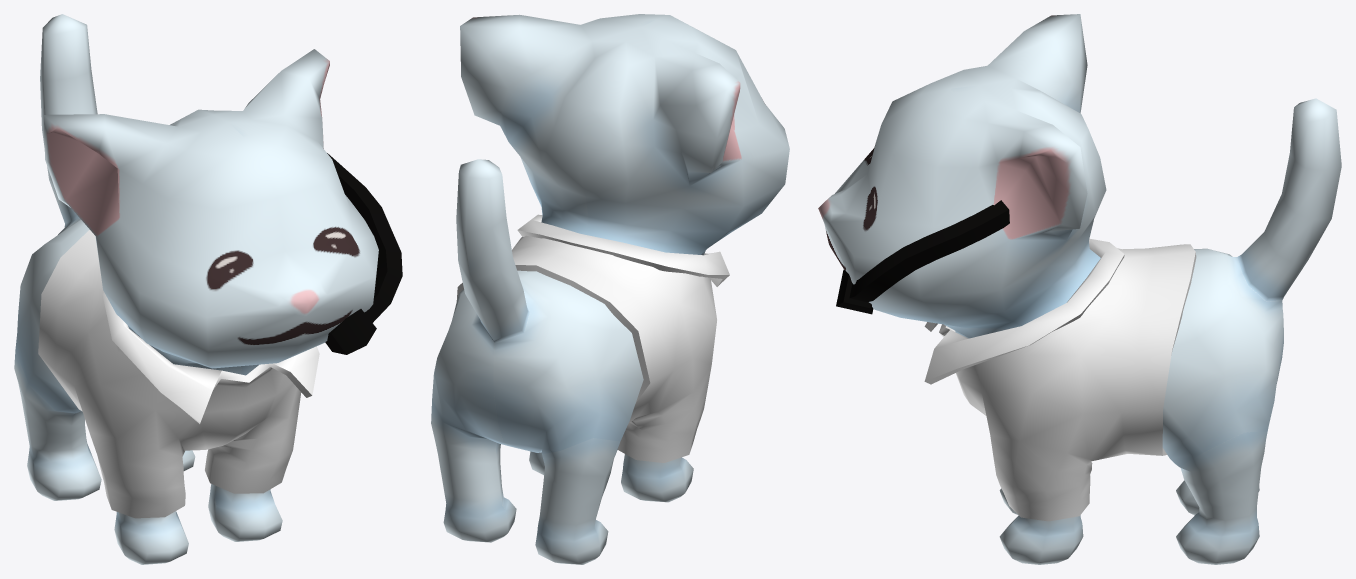
File: Conference Cat05.fbx
3 renders of one model, left to right at view 1: azimuth 30°, elevation 25°; view 2: azimuth 150°, elevation 25°; view 3: azimuth 270°, elevation 25°, orthographic. The views are drawn at different scales.
Visible parts, largest first — view 1: Cat_Base004, Conference_Cat_Shirt, Conference_Cat_Mic; view 2: Cat_Base004, Conference_Cat_Shirt; view 3: Cat_Base004, Conference_Cat_Shirt, Conference_Cat_Mic.
Boxes of the visible parts, x1,y1,x2,y2 form: Cat_Base004: (14,14,378,564); Conference_Cat_Shirt: (38,229,319,518); Conference_Cat_Mic: (325,153,402,354); Cat_Base004: (431,14,789,564); Conference_Cat_Shirt: (456,214,729,462); Cat_Base004: (818,14,1341,564); Conference_Cat_Shirt: (924,238,1196,521); Conference_Cat_Mic: (836,200,1009,314).
Bounding box in the file's own units: 1.75 × 2.83 × 2.68.
Materials: 3 (1 with a texture image).
